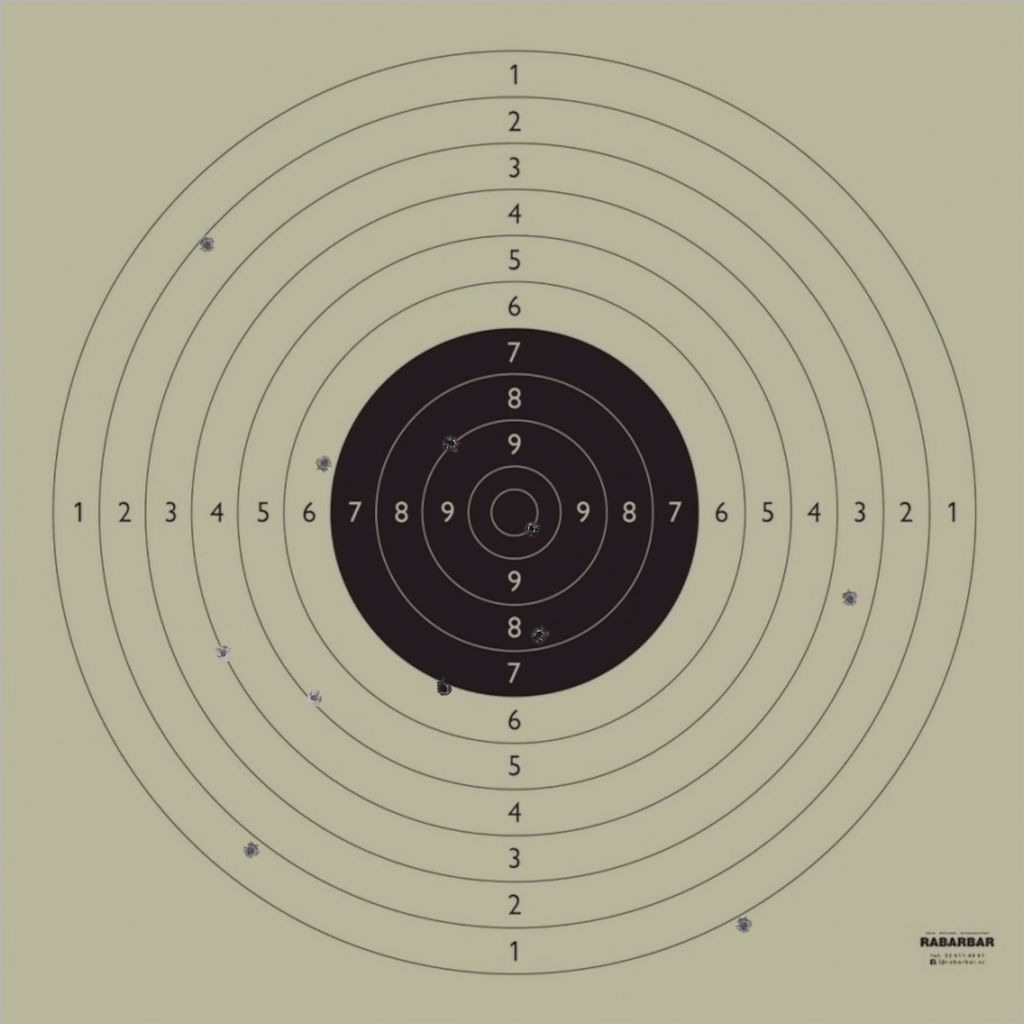0 punktow: (735, 916, 753, 935)
1 punkt: (242, 842, 260, 860)
10 punktow: (522, 519, 541, 538)
2 punkty: (198, 236, 216, 254)
3 punkty: (841, 590, 859, 608)
4 punkty: (214, 644, 232, 662)
5 punktow: (305, 689, 324, 707)
6 punktow: (315, 454, 333, 472)
7 punktow: (434, 679, 453, 697)
8 punktow: (530, 625, 549, 644)
9 punktow: (442, 434, 461, 453)
